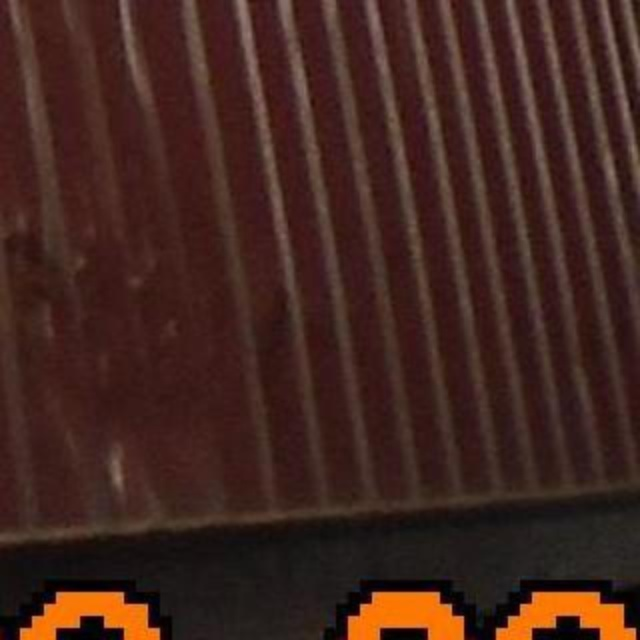Dent: (3, 211, 241, 537)
